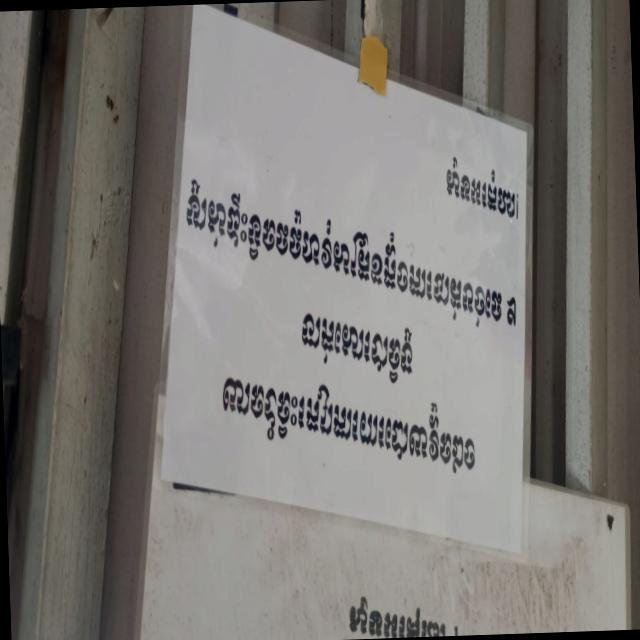1: (178, 167, 522, 341)
Yolov11_80vkh: (213, 340, 484, 496), (292, 302, 418, 396), (443, 147, 517, 223)
